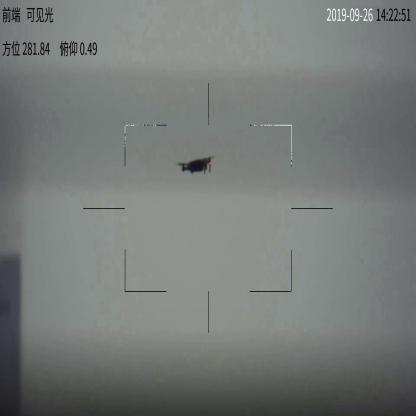uav: (176, 153, 218, 177)
